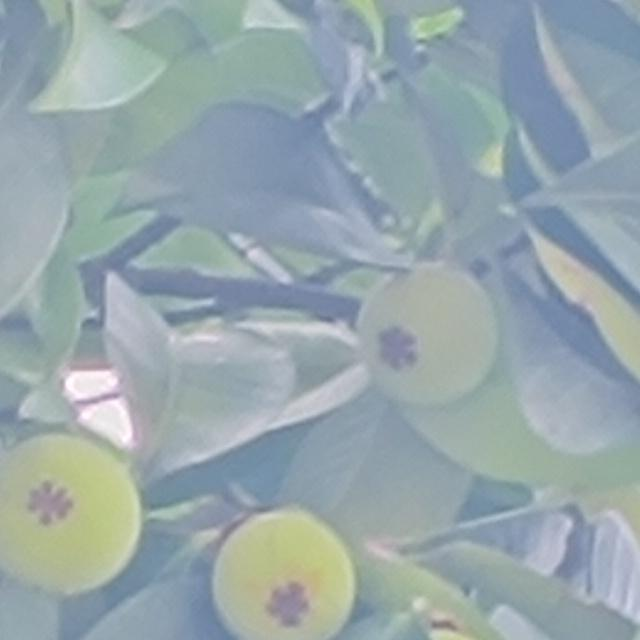mangosteen: (259, 195, 549, 475), (0, 394, 192, 631), (175, 481, 418, 640)
